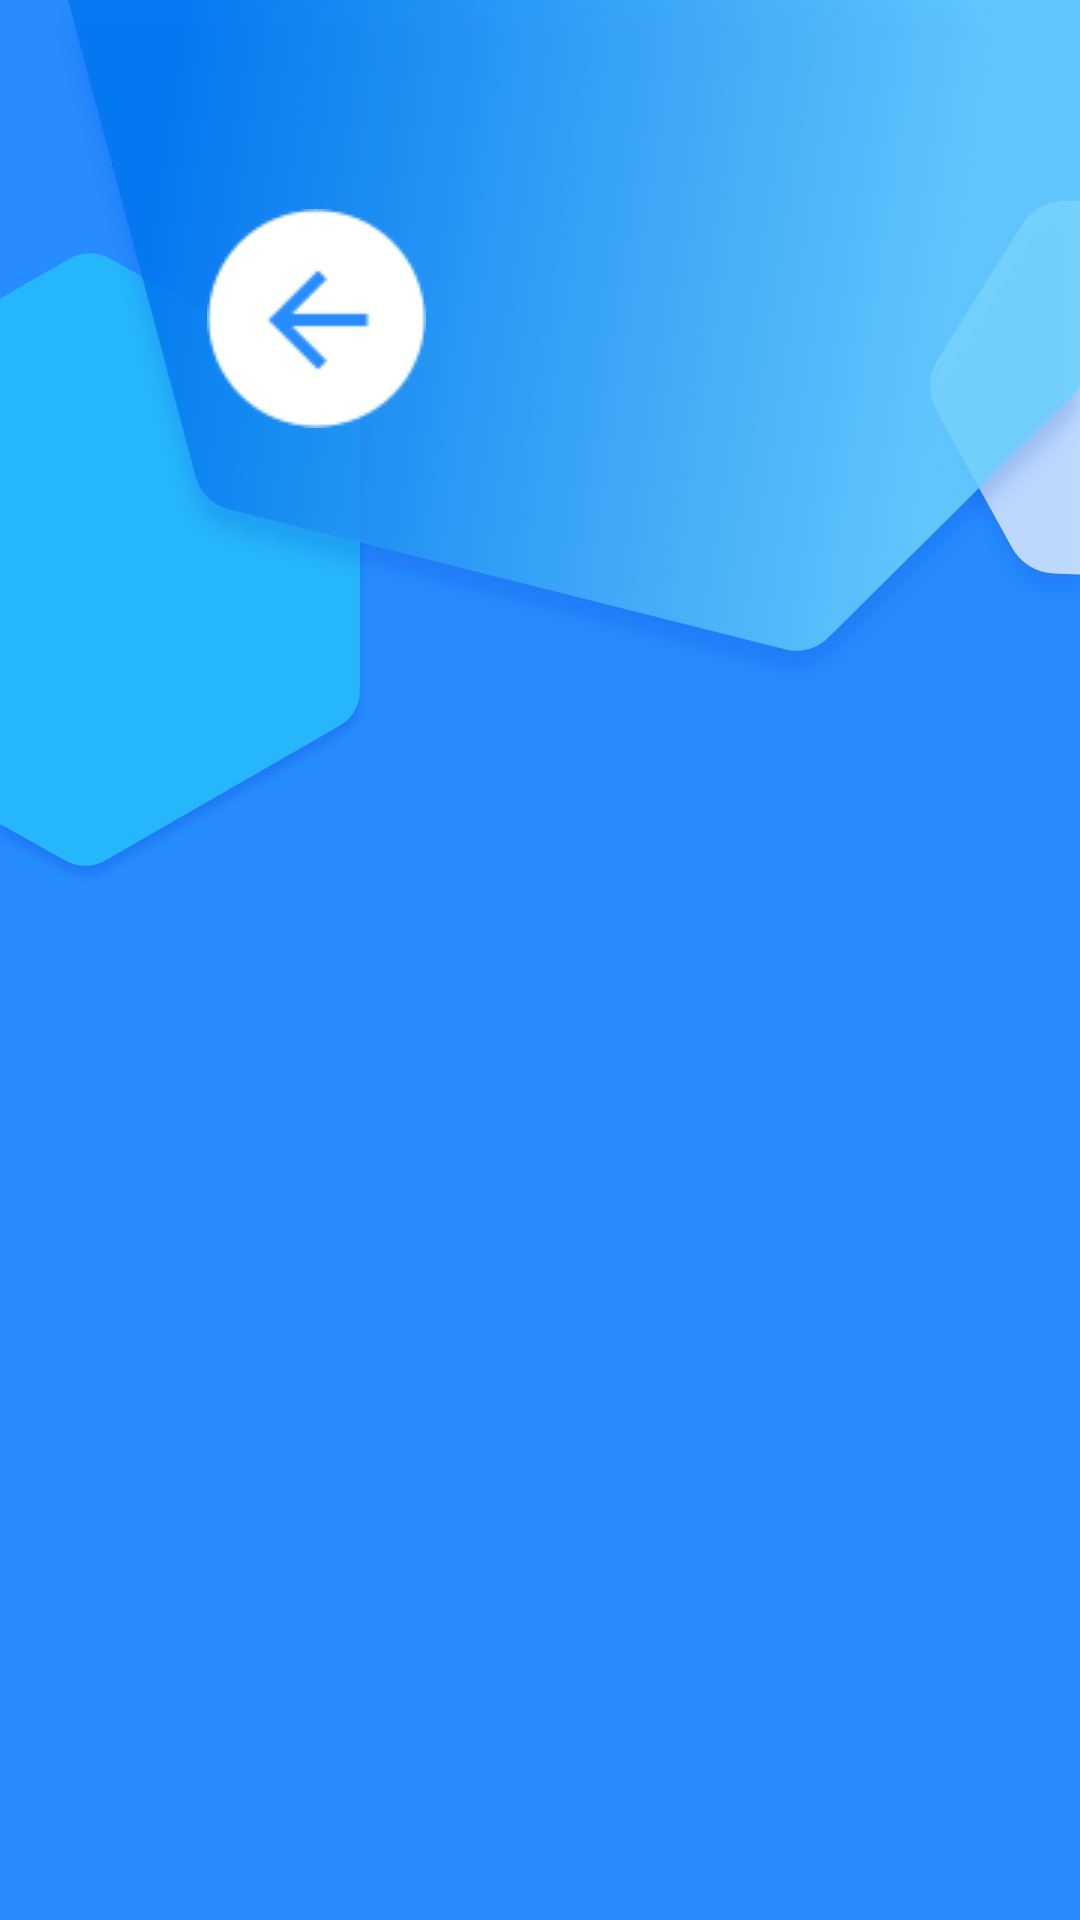

Icons on this 1080*1920 Android screen, each with the point to tap as [x,y]:
back: [316,318]
